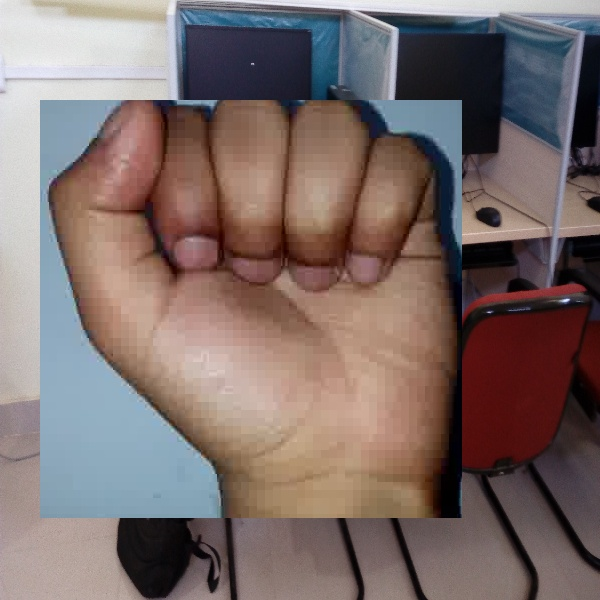A: (40, 100, 462, 518)
